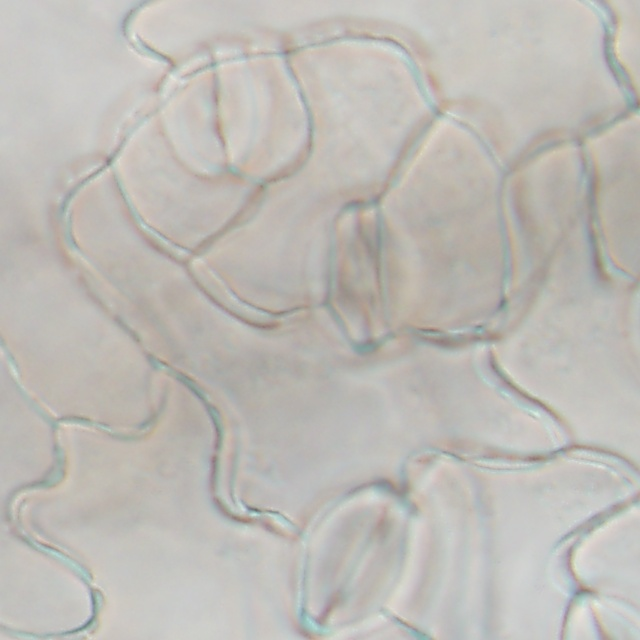center: (329, 521, 388, 608), (341, 228, 381, 315), (200, 78, 243, 155), (208, 82, 235, 145), (583, 611, 618, 618)
stomata-huw1: (293, 483, 433, 638), (158, 42, 313, 181), (301, 200, 427, 364), (158, 45, 267, 179), (562, 590, 639, 639)
